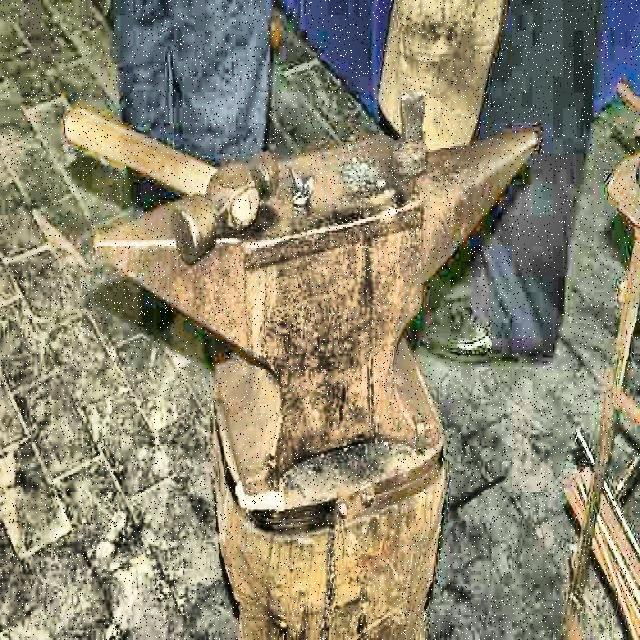hammer: (65, 107, 283, 271)
